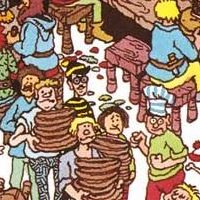odlaw: (68, 62, 88, 96)
